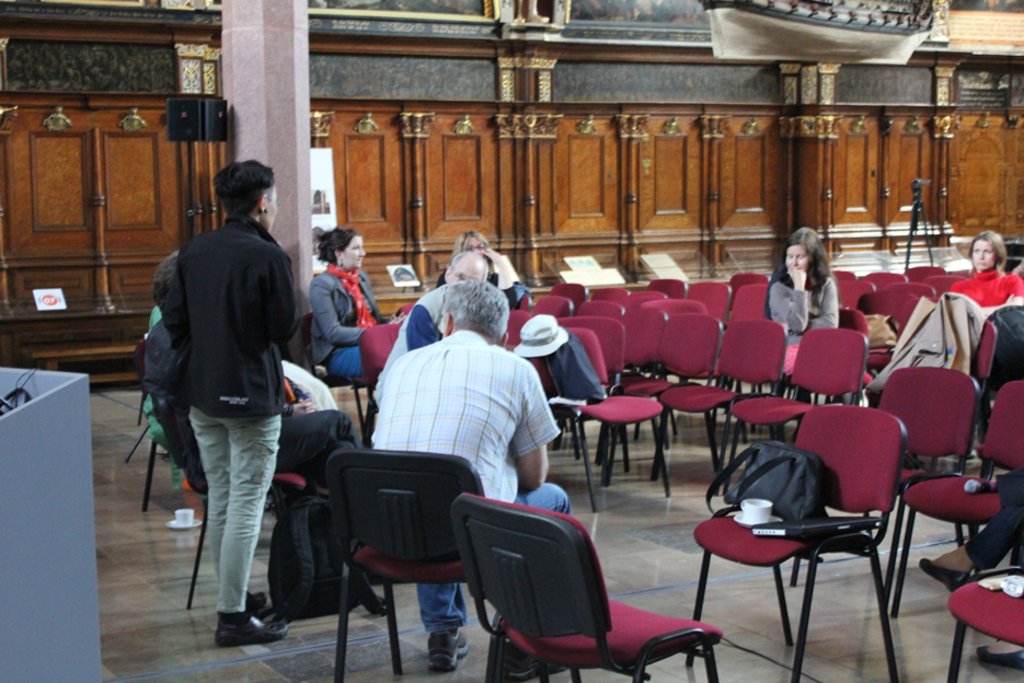Chair: (502, 269, 977, 518), (450, 491, 728, 682), (787, 366, 982, 617), (321, 445, 486, 682), (898, 378, 1023, 622), (182, 470, 302, 611), (944, 566, 1023, 682), (130, 337, 165, 522), (360, 322, 405, 447), (970, 317, 1001, 403)
